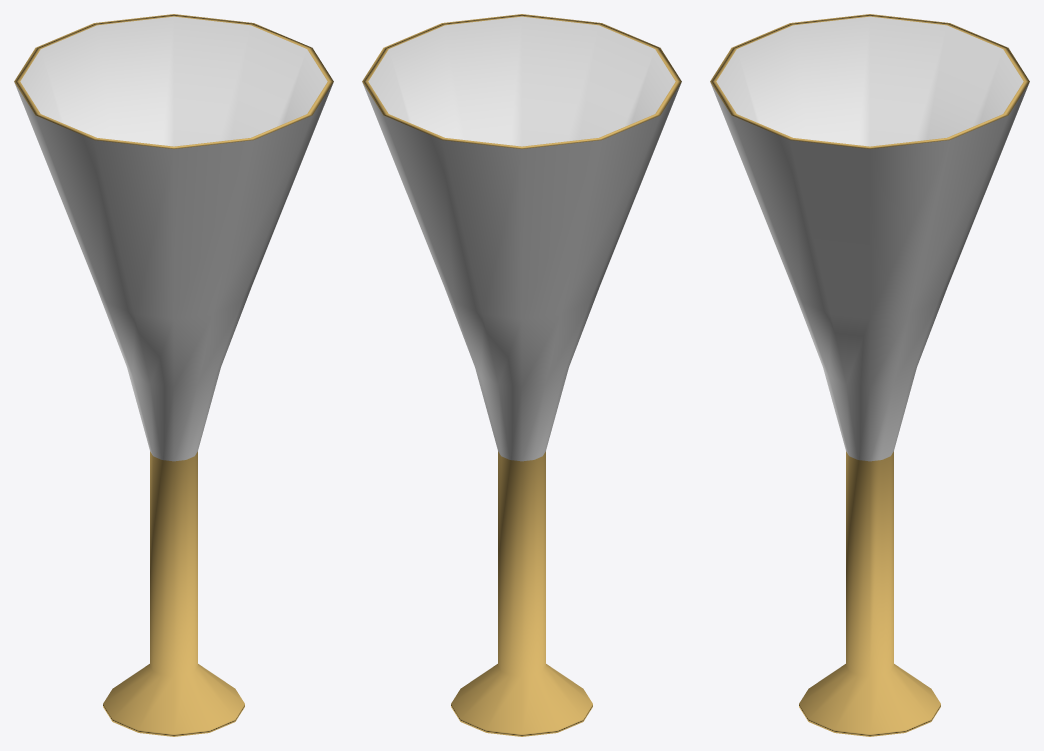
Rendered from LoungeGlass1UV.fbx.
3 views of the same model, side by side, from view 1: azimuth 30°, elevation 25°; view 2: azimuth 150°, elevation 25°; view 3: azimuth 270°, elevation 25° (orthographic).
Parts seen in each view (by area): view 1: pCylinder15; view 2: pCylinder15; view 3: pCylinder15.
Boxes of the visible parts, x1,y1,x2,y2 form: pCylinder15: (14, 14, 333, 736); pCylinder15: (362, 14, 681, 736); pCylinder15: (710, 14, 1029, 736).
Bounding box in the file's own units: 30.84 × 66.52 × 30.84.
